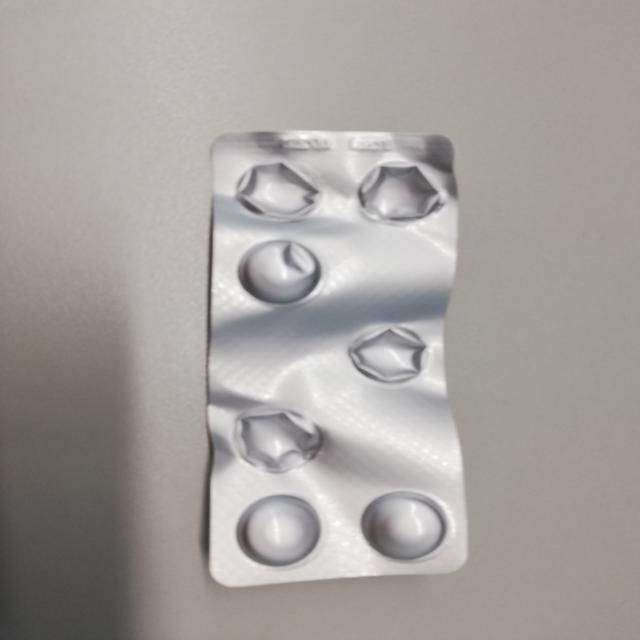Empty: (224, 403, 332, 478), (226, 154, 331, 227), (340, 314, 440, 386), (348, 157, 450, 226)
Pill: (350, 484, 456, 566), (231, 232, 339, 307), (233, 489, 330, 569)
